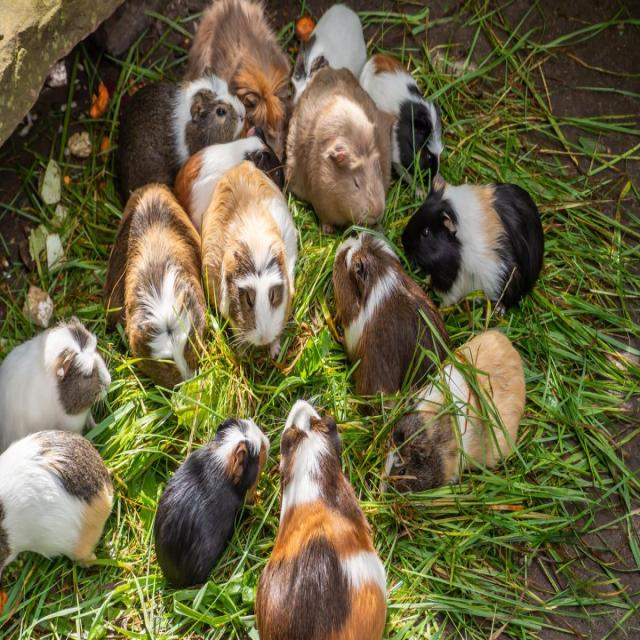guinea pig: (254, 380, 394, 640), (380, 322, 541, 502), (320, 224, 462, 408), (402, 172, 560, 322), (109, 185, 209, 388), (198, 172, 301, 368), (154, 412, 271, 584), (287, 65, 394, 226), (0, 324, 115, 430), (113, 67, 248, 151), (179, 150, 285, 200)
